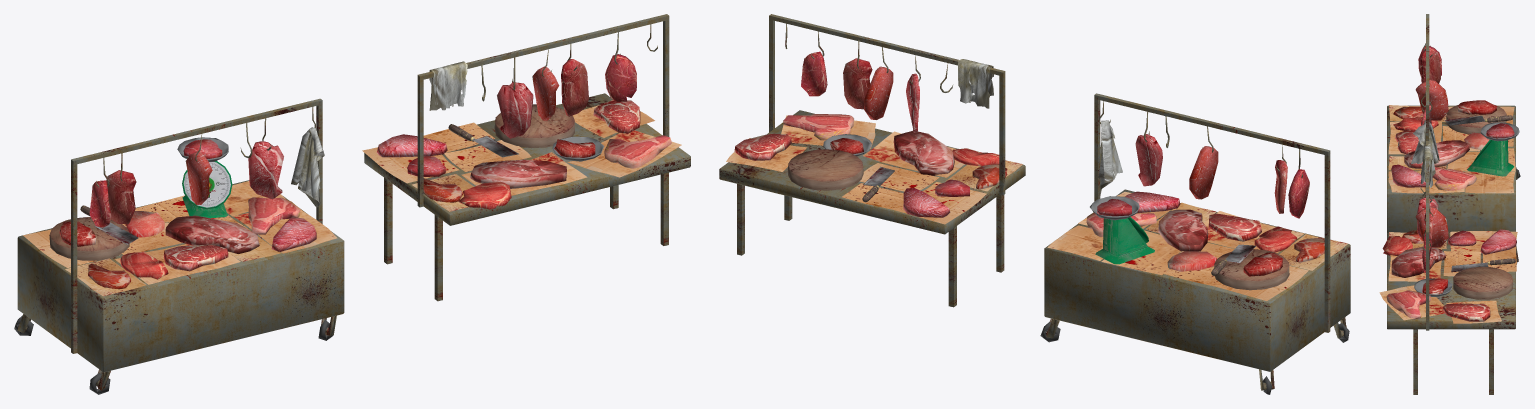
The model's file is vietnamese_meat_market.glb.
3 views of the same model, side by side, from view 1: azimuth 30°, elevation 25°; view 2: azimuth 150°, elevation 25°; view 3: azimuth 270°, elevation 25° (orthographic). The views are drawn at different scales.
Visible parts, largest first — view 1: Cube.001, Cube.003; view 2: Cube.001, Cube.003; view 3: Cube.001, Cube.003.
Part boxes in pixels (<box>): Cube.001: <box>14,98,344,394</box>; Cube.003: <box>362,14,690,301</box>; Cube.001: <box>1040,93,1350,394</box>; Cube.003: <box>719,14,1025,307</box>; Cube.001: <box>1387,14,1520,264</box>; Cube.003: <box>1379,141,1517,394</box>.
Size of the model in its own units: 13.06 by 4.64 by 3.54.
Materials: 1 (1 with a texture image).
